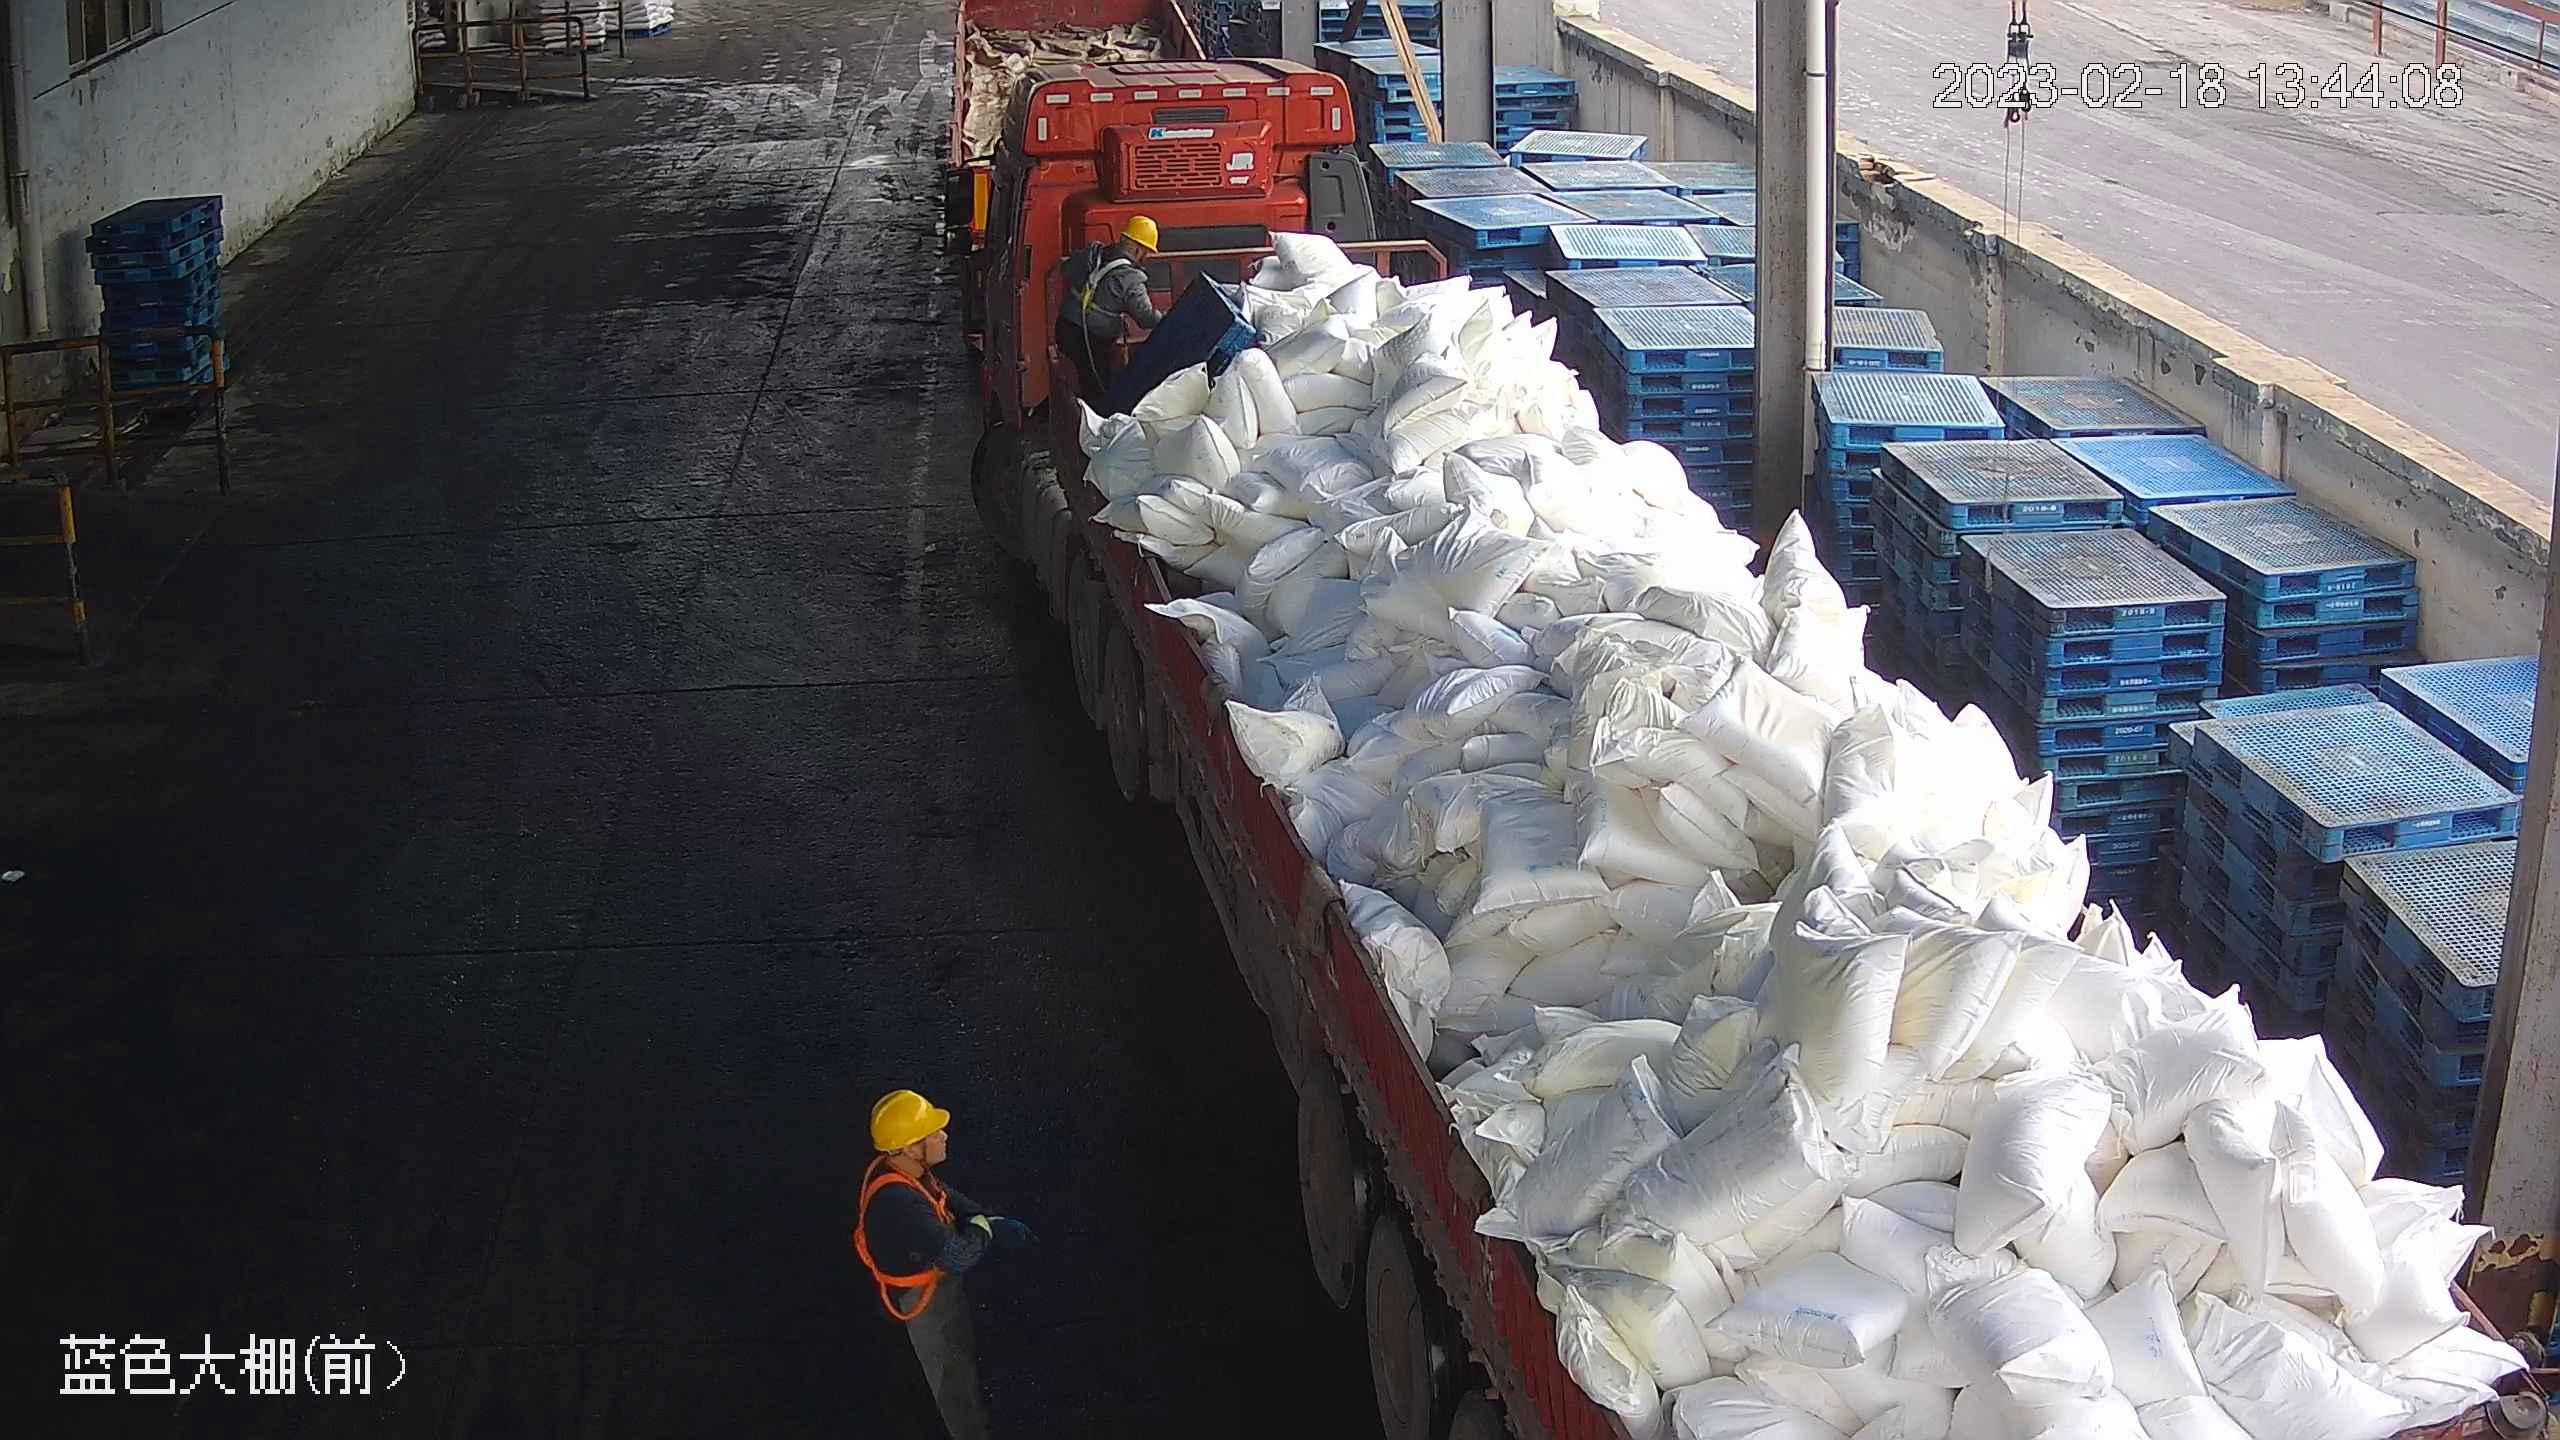belt: (858, 1162, 953, 1298), (1074, 244, 1141, 305)
head: (853, 1089, 969, 1236), (1071, 214, 1159, 298)
helmet: (869, 1088, 951, 1148), (1116, 208, 1161, 254)
people: (851, 1087, 1018, 1437), (1049, 211, 1188, 418)
truck: (961, 47, 2557, 1440)
